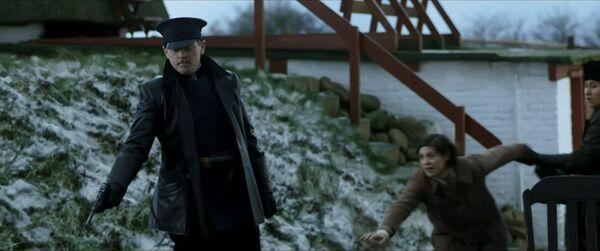Gun: (86, 182, 109, 227)
